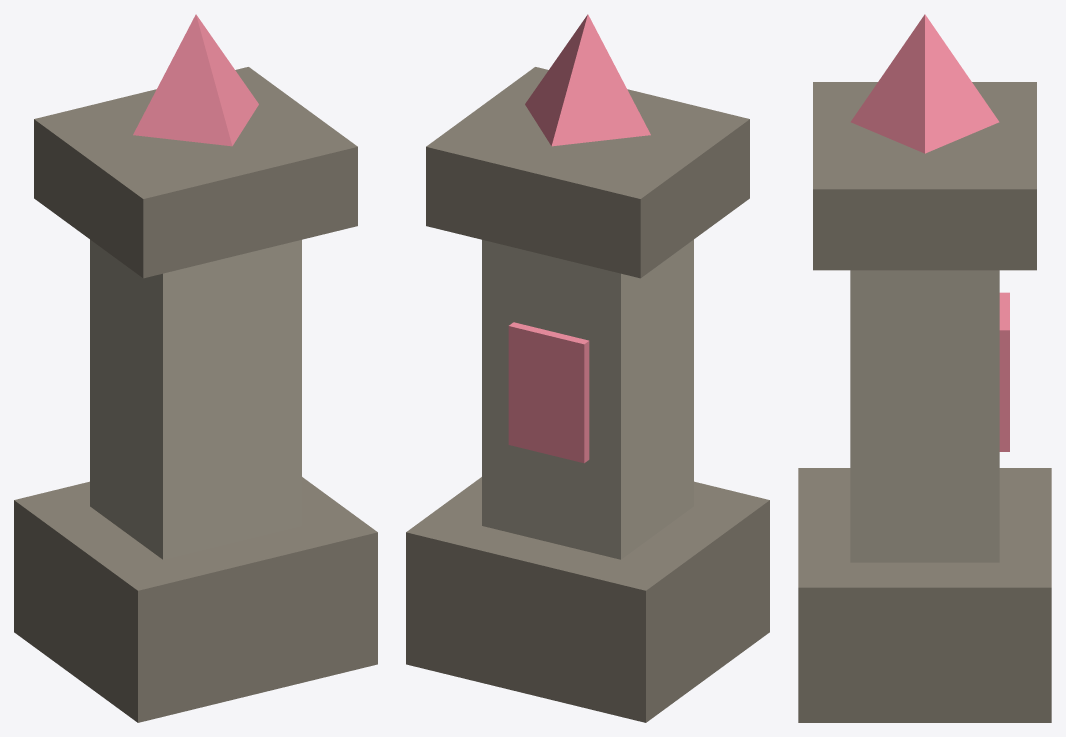
Rendered from poi_pillar_red.glb.
3 views of the same model, side by side, from view 1: azimuth 30°, elevation 25°; view 2: azimuth 150°, elevation 25°; view 3: azimuth 270°, elevation 25° (orthographic). The views are drawn at different scales.
Visible parts, largest first — view 1: base, shaft, cap, marker; view 2: base, shaft, cap, rune, marker; view 3: base, shaft, cap, marker, rune.
Boxes of the visible parts, <box> form: base: <box>14,477,377,722</box>; shaft: <box>90,239,301,559</box>; cap: <box>34,67,357,278</box>; marker: <box>133,14,258,146</box>; base: <box>406,477,769,722</box>; shaft: <box>482,239,693,559</box>; cap: <box>426,67,749,278</box>; rune: <box>508,322,589,463</box>; marker: <box>525,14,650,146</box>; base: <box>798,468,1051,722</box>; shaft: <box>850,270,999,562</box>; cap: <box>813,82,1036,270</box>; marker: <box>850,14,999,153</box>; rune: <box>999,292,1009,451</box>.
Size of the model in its own units: 0.38 by 0.96 by 0.34.
